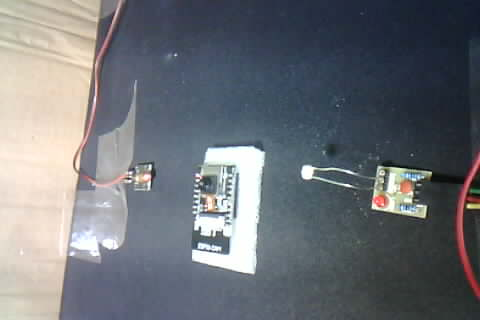esp32: (188, 147, 260, 272)
